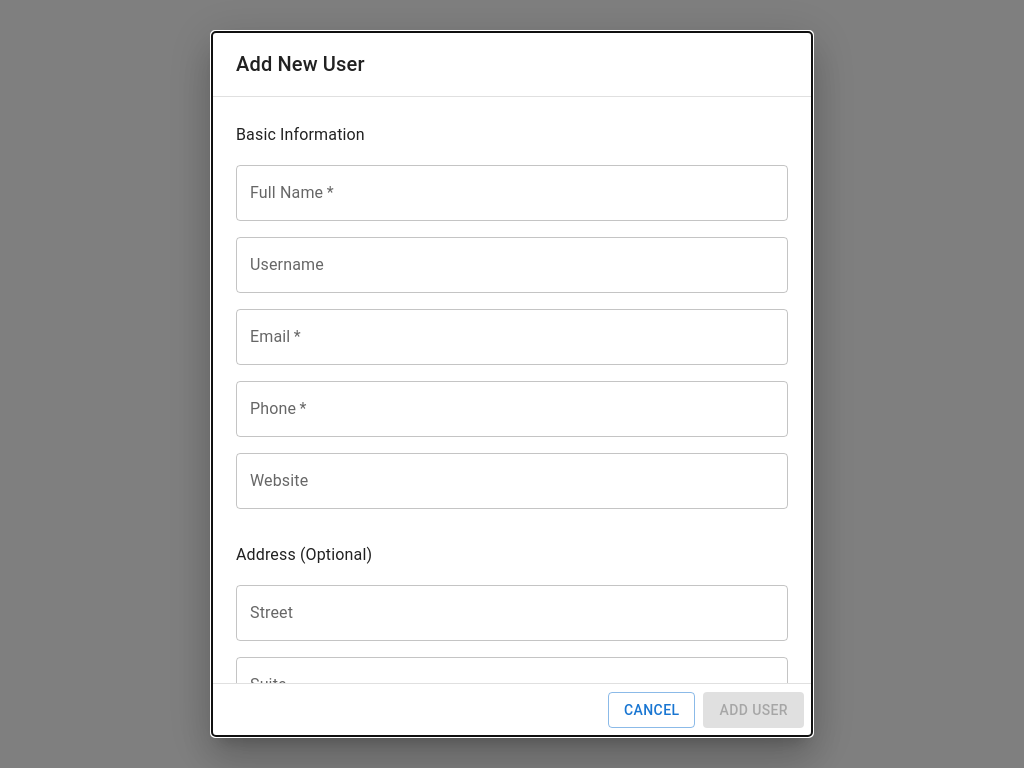
userFormDialog › in ADD Mode (userToEdit is null) › shows error message and keeps button disabled when required field is empty
Clear the input (it should already be empty, but ensures focus/blur)
Clear the field labelled "Full Name *" at (512, 193), box left=236, top=165, right=788, bottom=221
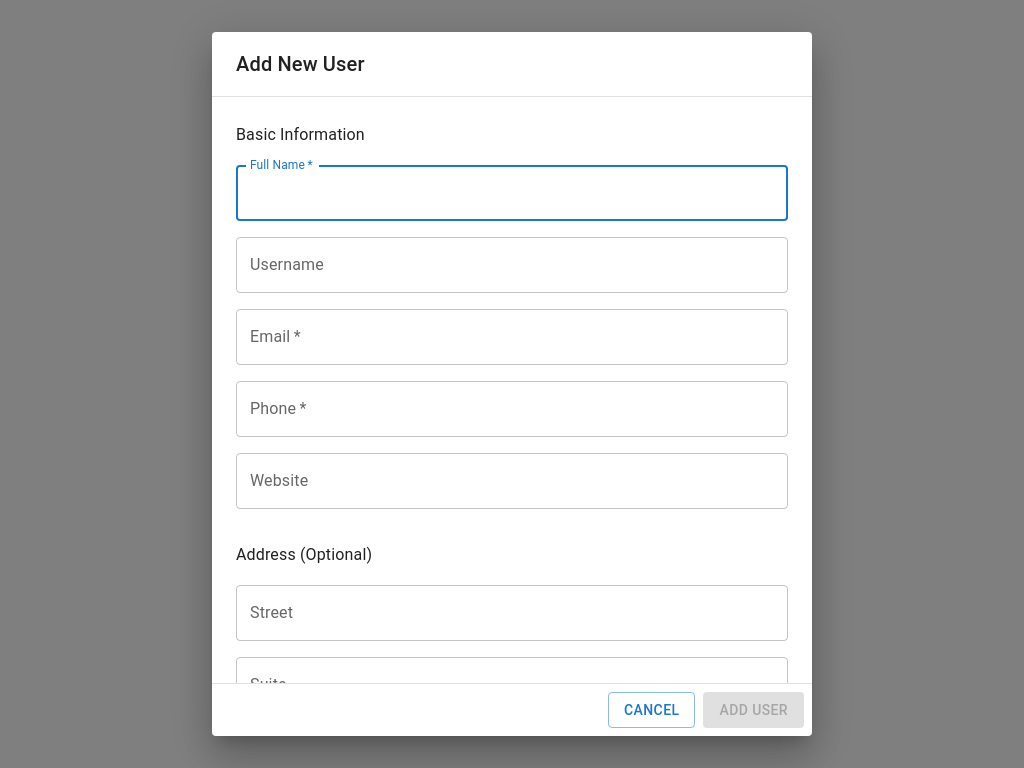
Blur the field to trigger validation
Press Tab
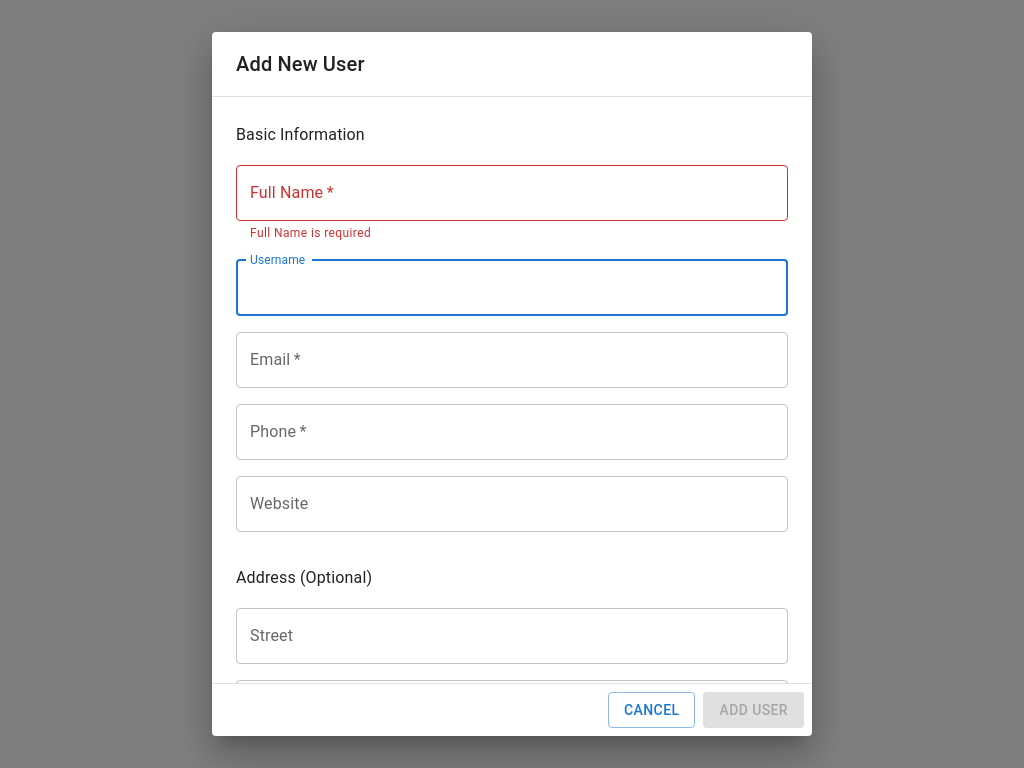
Expected: the button "Add User" is disabled, left=704, top=692, right=804, bottom=728
Expected: the text "Full Name is required" is shown, left=250, top=226, right=371, bottom=240
